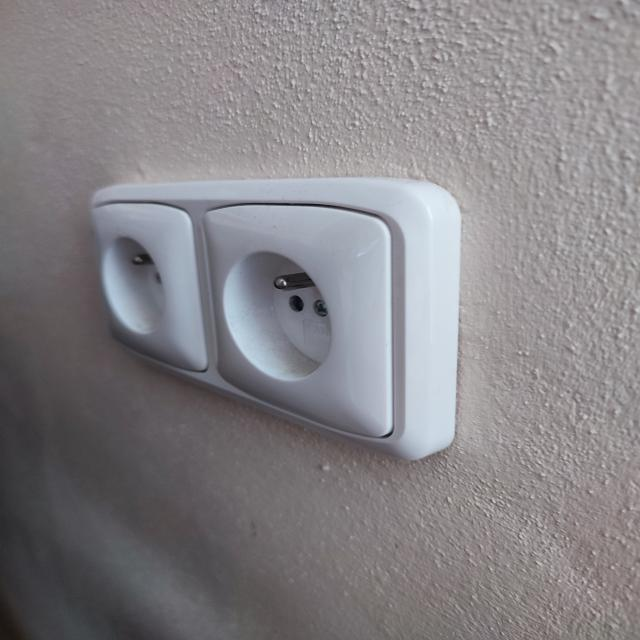house plug: (214, 230, 359, 419), (99, 226, 179, 349)
